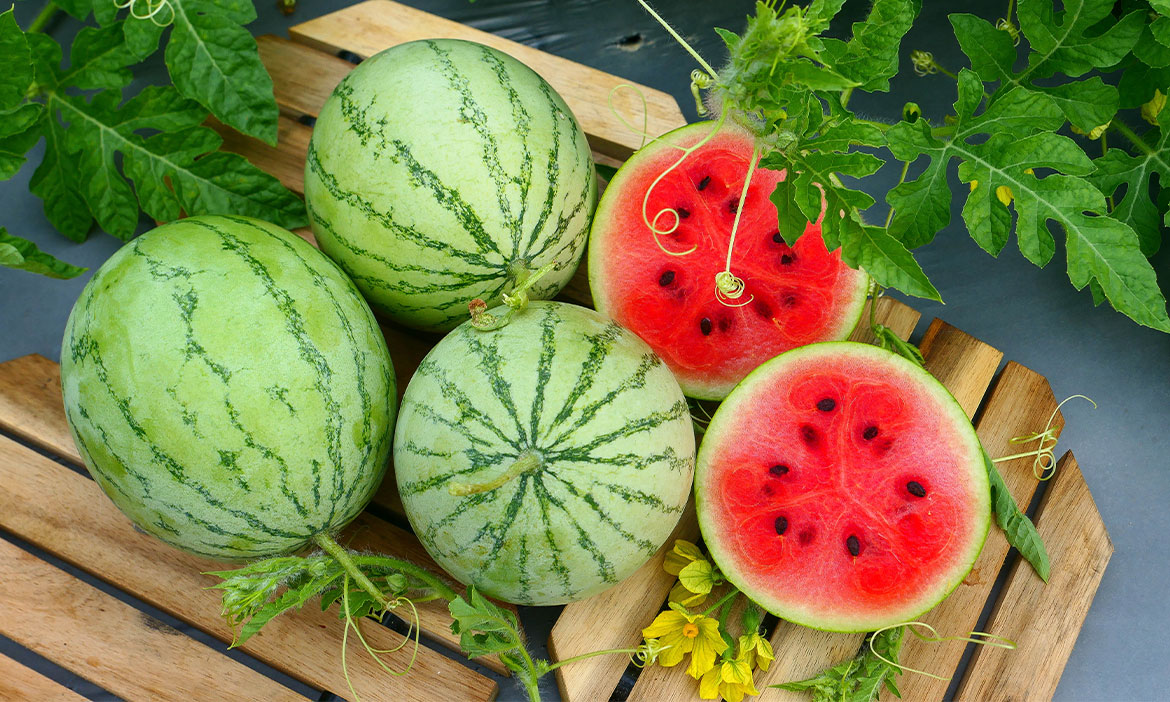watermelon: (57, 223, 395, 560), (400, 298, 696, 621), (295, 38, 593, 317)
